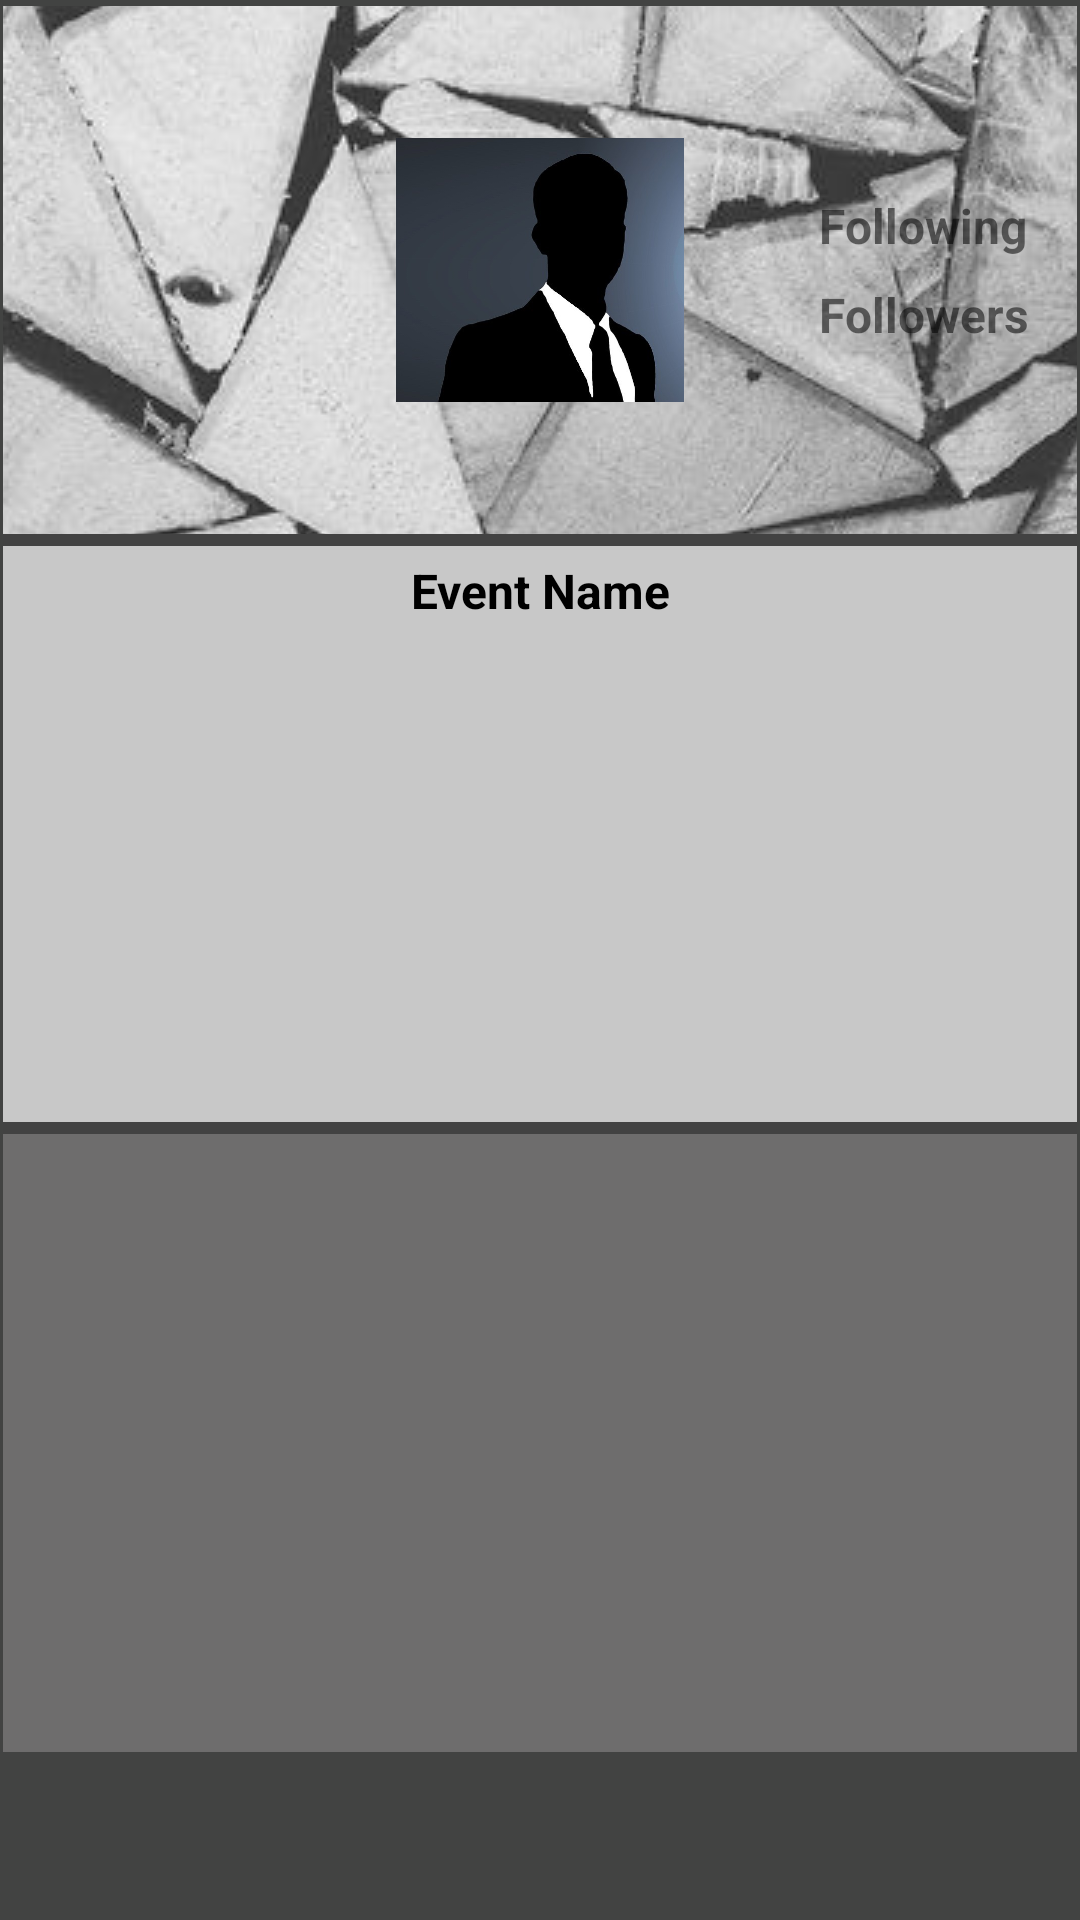

Icon click points for this 1080px x 1920px phone screenshot, format (x,y):
User Profile Image: (540,270)
